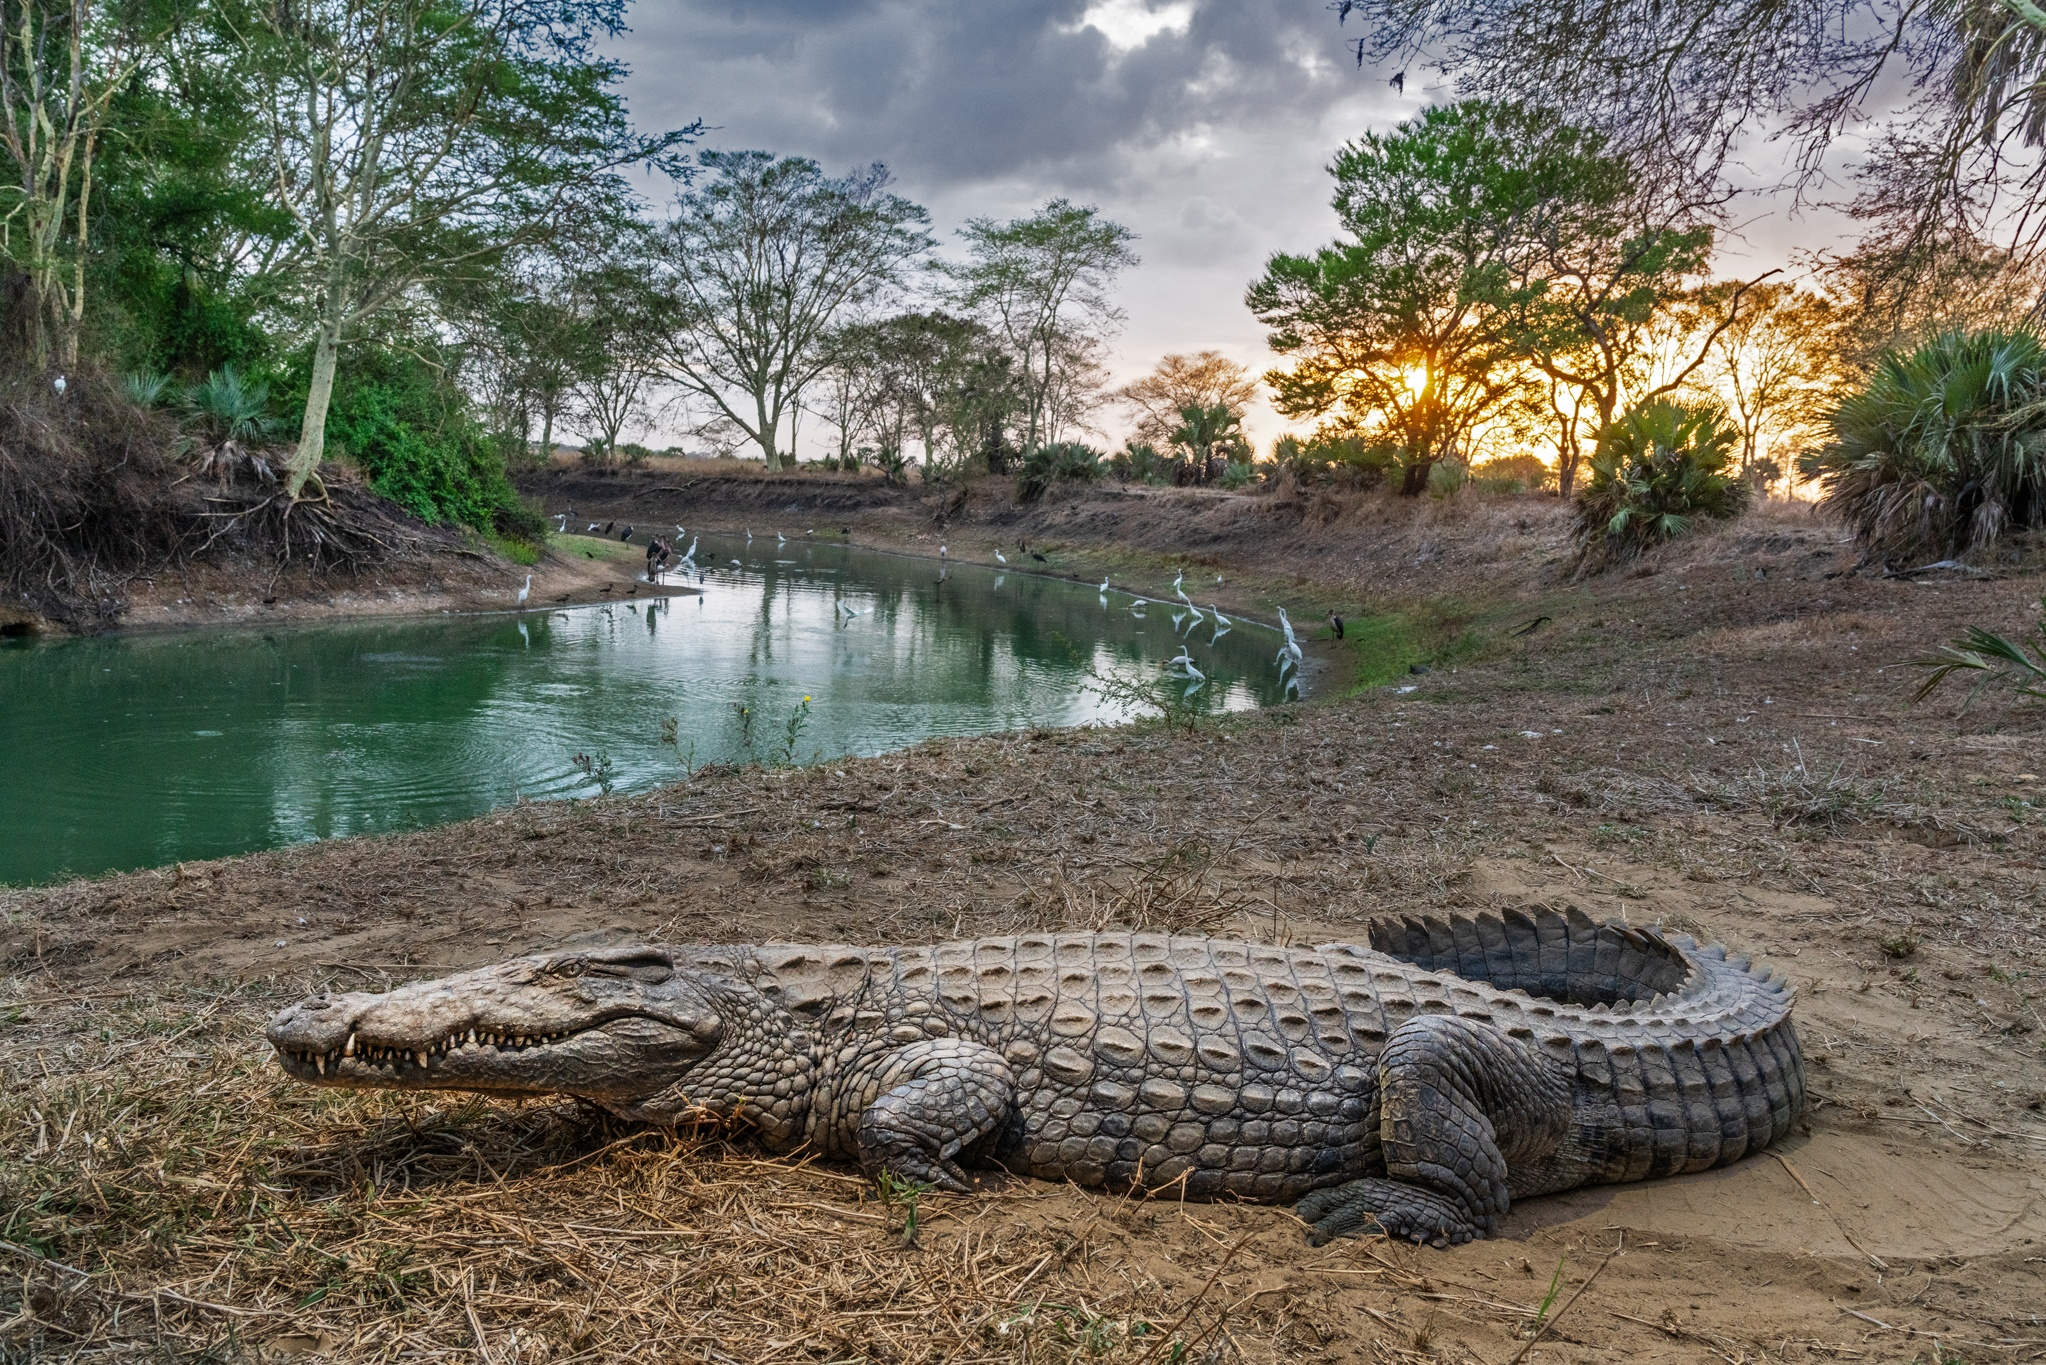bird: (1173, 637, 1207, 681), (518, 570, 536, 603), (990, 541, 1009, 567), (1098, 570, 1114, 591)
crocodile: (257, 893, 1825, 1254)
